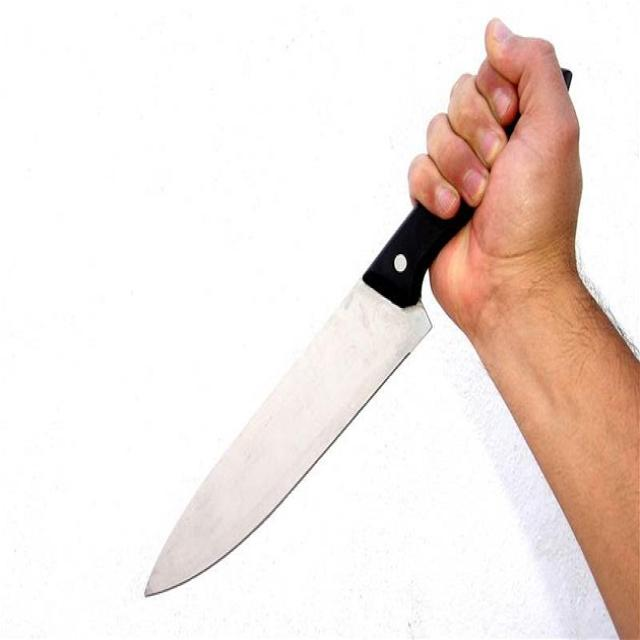knife: (133, 217, 443, 609)
